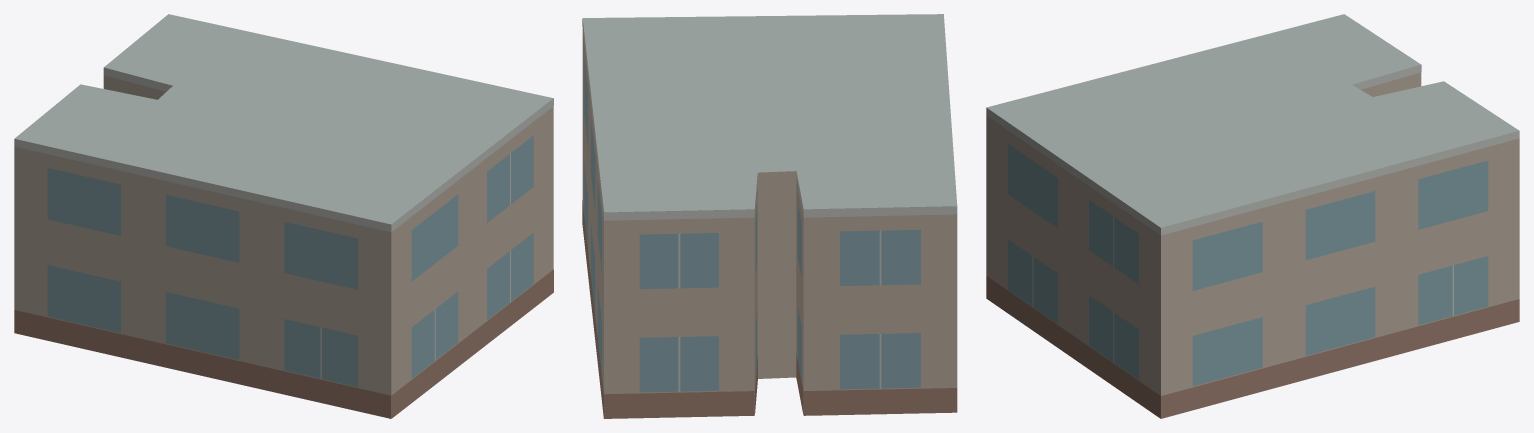
The model's file is survey-upis-32753115.glb.
The picture shows the model from 3 angles, left to right: view 1: azimuth 30°, elevation 25°; view 2: azimuth 150°, elevation 25°; view 3: azimuth 270°, elevation 25°; orthographic projection. The views are drawn at different scales.
Parts seen in each view (by area): view 1: survey-upis-32753115.tmp; view 2: survey-upis-32753115.tmp; view 3: survey-upis-32753115.tmp.
Boxes of the visible parts, x1,y1,x2,y2 form: survey-upis-32753115.tmp: (14,14,553,418); survey-upis-32753115.tmp: (582,14,957,418); survey-upis-32753115.tmp: (986,14,1519,418).
Size of the model in its own units: 14.66 by 6.1 by 15.45.
